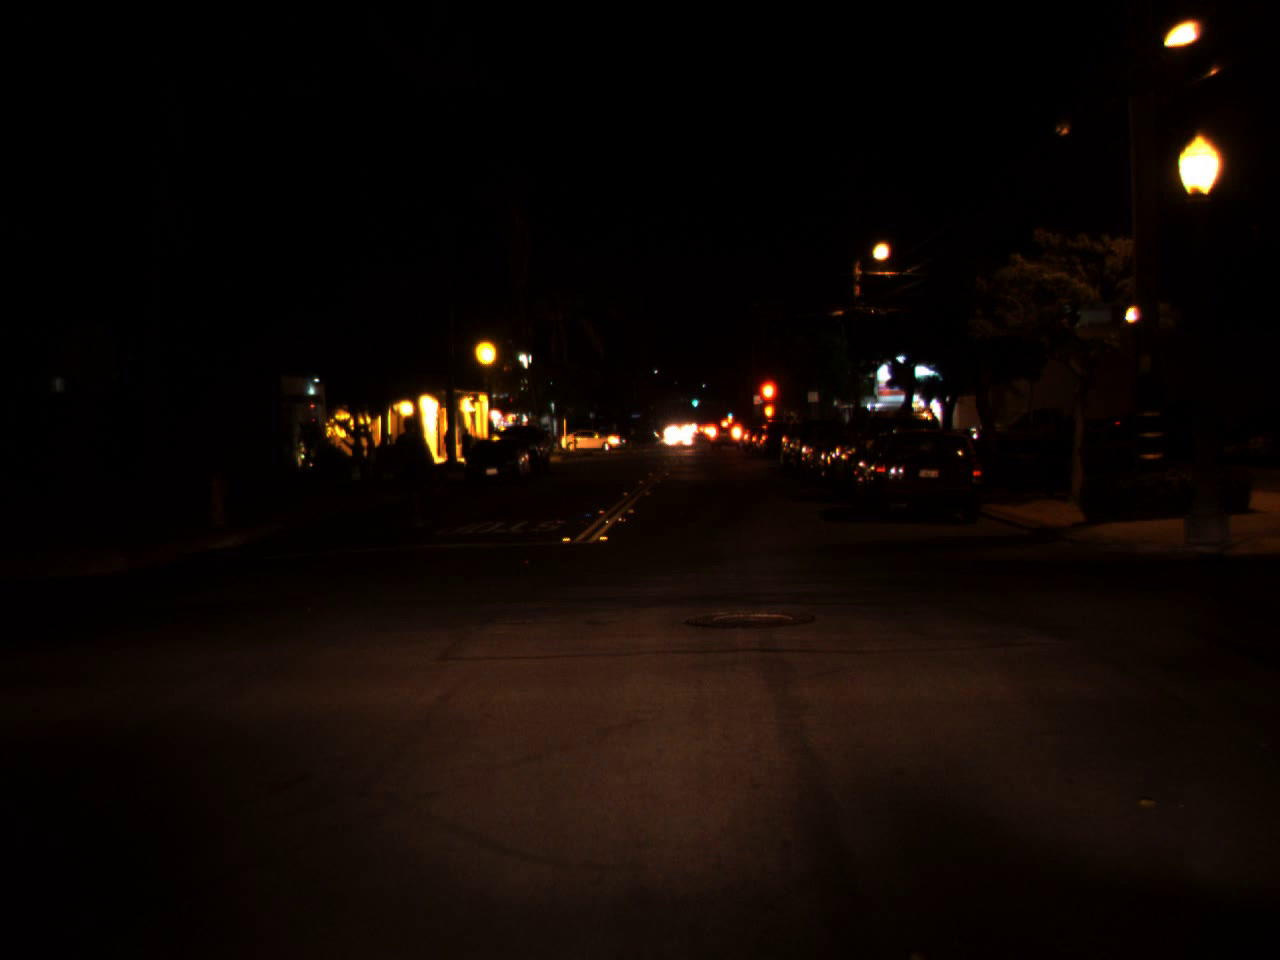go: (690, 394, 699, 406), (726, 406, 733, 418)
stop: (756, 377, 780, 425)
